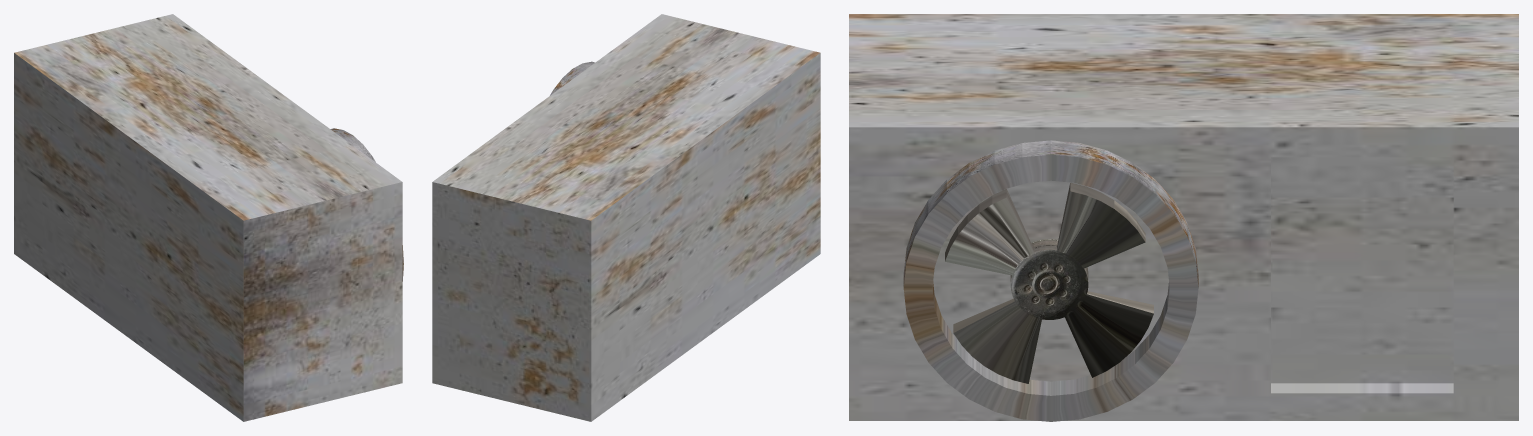
The model's file is Вентилятор.fbx.
3 renders of one model, left to right at view 1: azimuth 30°, elevation 25°; view 2: azimuth 150°, elevation 25°; view 3: azimuth 270°, elevation 25°, orthographic. The views are drawn at different scales.
Visible parts, largest first — view 1: Cube; view 2: Cube; view 3: Cube, Цилиндр.
Part boxes in pixels (x1=…): Cube: x1=14, y1=14, x2=403, y2=421; Cube: x1=432, y1=14, x2=820, y2=421; Cube: x1=849, y1=14, x2=1518, y2=421; Цилиндр: x1=945, y1=182, x2=1153, y2=383.
Bounding box in the file's own units: 186 × 200 × 413.
